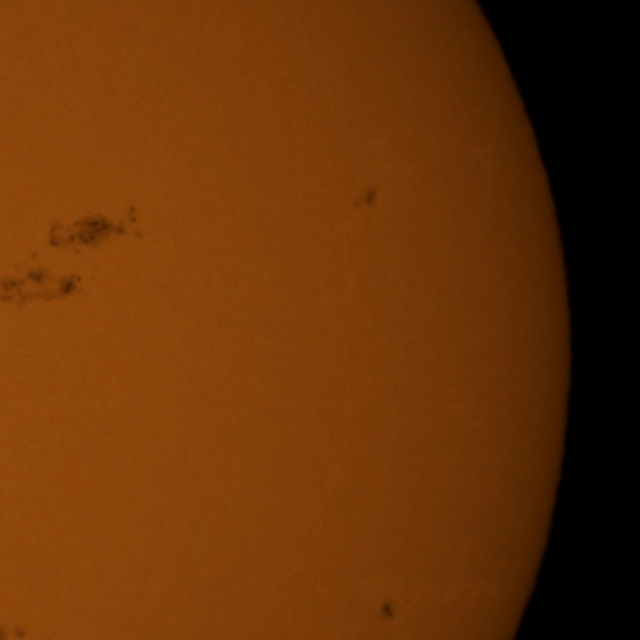sunspot: (41, 193, 157, 259), (0, 257, 95, 311), (353, 175, 390, 220), (379, 600, 396, 622), (11, 625, 28, 640)
